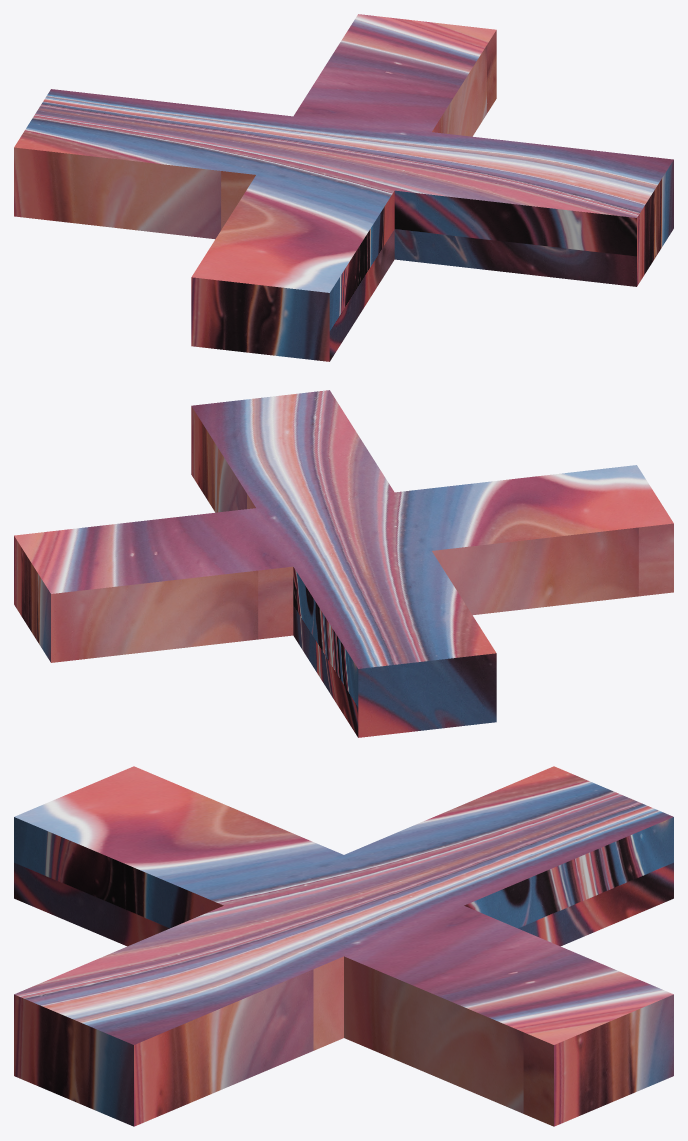
Rendered from MarkerX.obj.
3 renders of one model, top to bottom at view 1: azimuth 30°, elevation 25°; view 2: azimuth 150°, elevation 25°; view 3: azimuth 270°, elevation 25°, orthographic. The views are drawn at different scales.
Parts seen in each view (by area): view 1: MarkerX; view 2: MarkerX; view 3: MarkerX.
Part boxes in pixels (x1=…): MarkerX: x1=14, y1=14, x2=673, y2=361; MarkerX: x1=14, y1=390, x2=673, y2=737; MarkerX: x1=14, y1=766, x2=673, y2=1126.
Size of the model in its own units: 7.78 by 1.06 by 7.78.
1 material, 1 textured.
